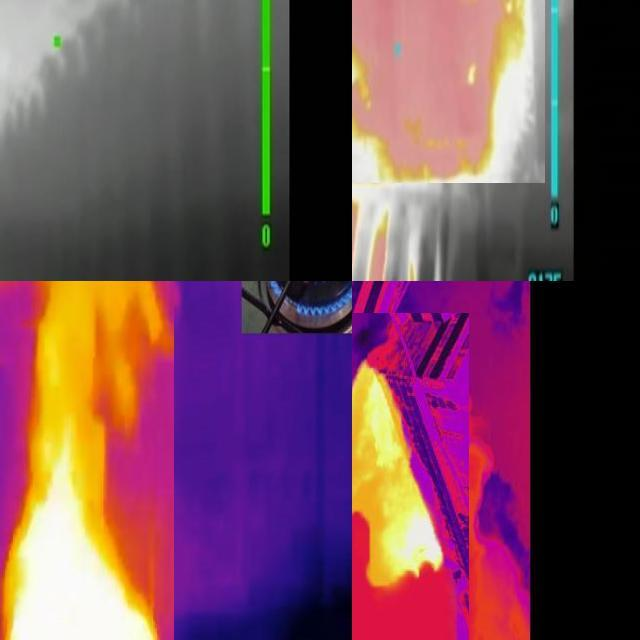fire: (1, 282, 174, 640), (353, 313, 469, 640), (353, 1, 545, 183)
